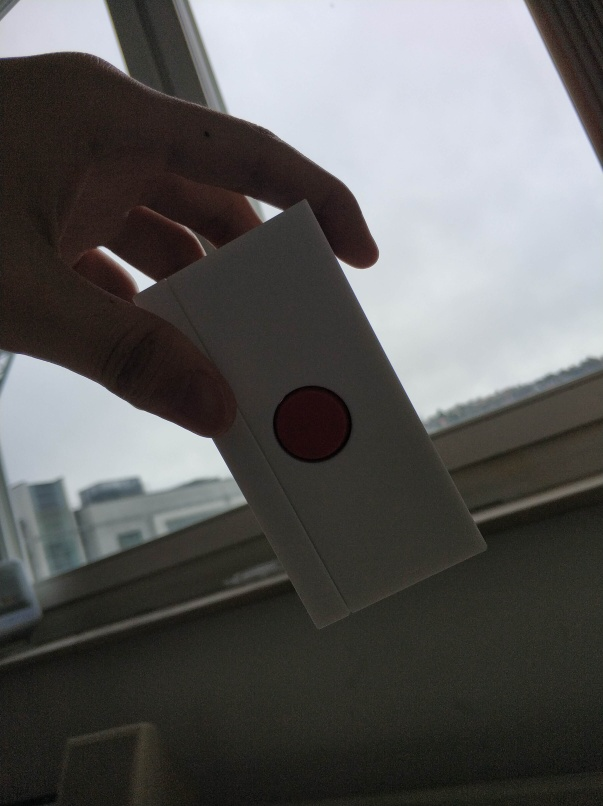white+white+red: (126, 196, 488, 636)
